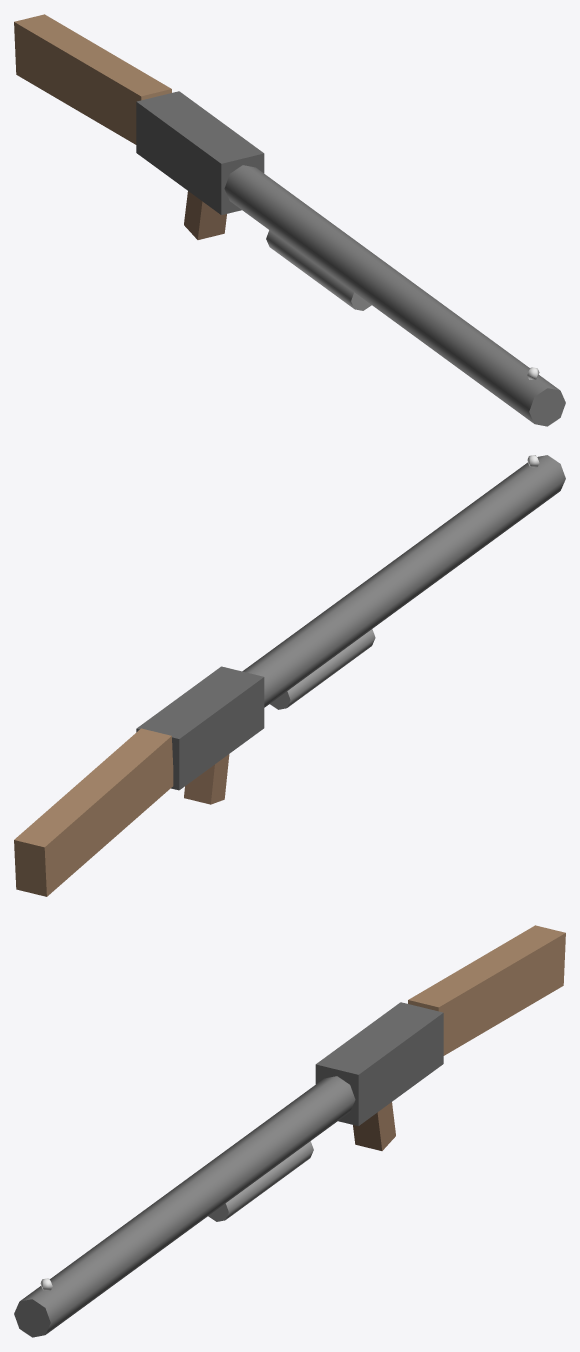
Rendered from weapon_shotgun.glb.
The picture shows the model from 3 angles, top to bottom: view 1: azimuth 30°, elevation 25°; view 2: azimuth 150°, elevation 25°; view 3: azimuth 330°, elevation 25°; orthographic projection.
Parts seen in each view (by area): view 1: barrel, stock, receiver, pump, grip; view 2: barrel, stock, receiver, pump, grip; view 3: barrel, stock, receiver, pump, grip.
Boxes of the visible parts, x1,y1,x2,y2 form: barrel: [224, 165, 565, 426]; stock: [14, 14, 171, 144]; receiver: [136, 91, 264, 214]; pump: [266, 230, 371, 310]; grip: [184, 191, 226, 239]; barrel: [242, 455, 565, 707]; stock: [14, 728, 173, 896]; receiver: [136, 666, 264, 790]; pump: [270, 629, 375, 709]; grip: [184, 754, 229, 804]; barrel: [14, 1076, 355, 1337]; stock: [408, 925, 565, 1055]; receiver: [315, 1002, 443, 1125]; pump: [208, 1141, 313, 1221]; grip: [353, 1102, 395, 1150].
Size of the model in its own units: 0.105 by 0.2461 by 2.19.
